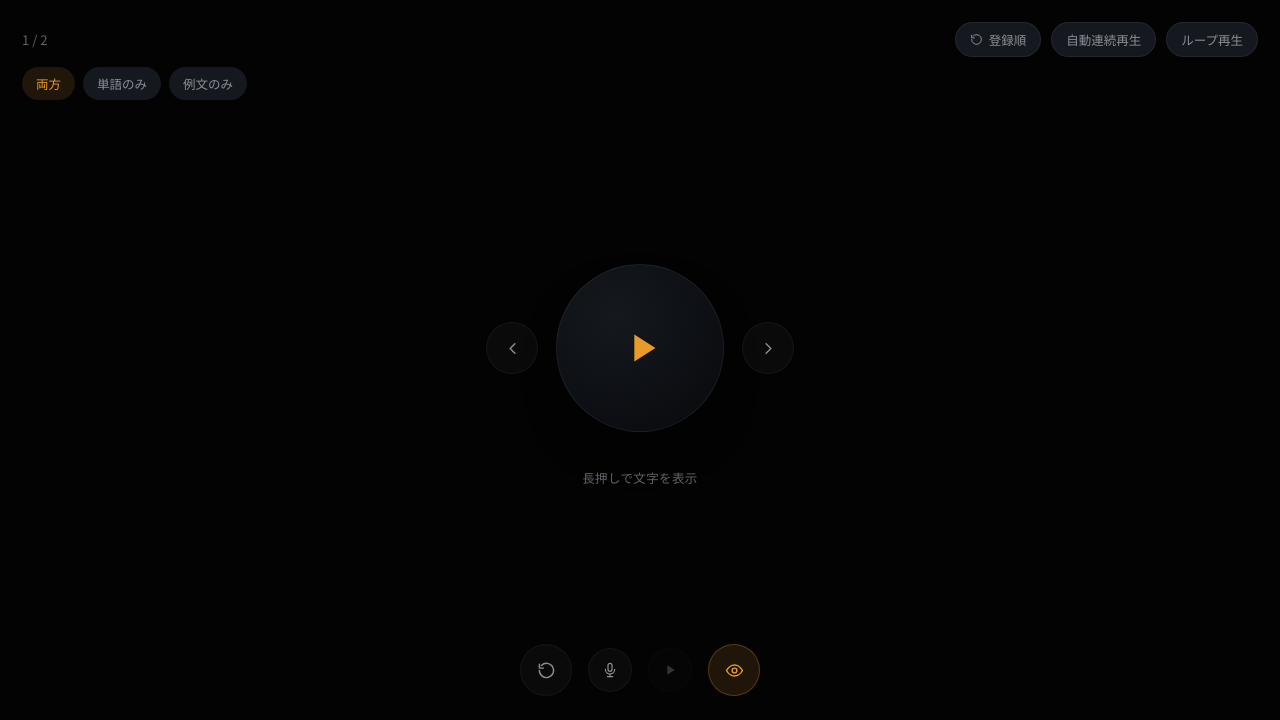
loop playback wraps from the last card back to the first
Expected: the text "1 / 2" is shown, x1=22 y1=30 x2=47 y2=49
Click the checkbox labelled "ループ再生" at (1212, 40), box x1=1166 y1=22 x2=1258 y2=57
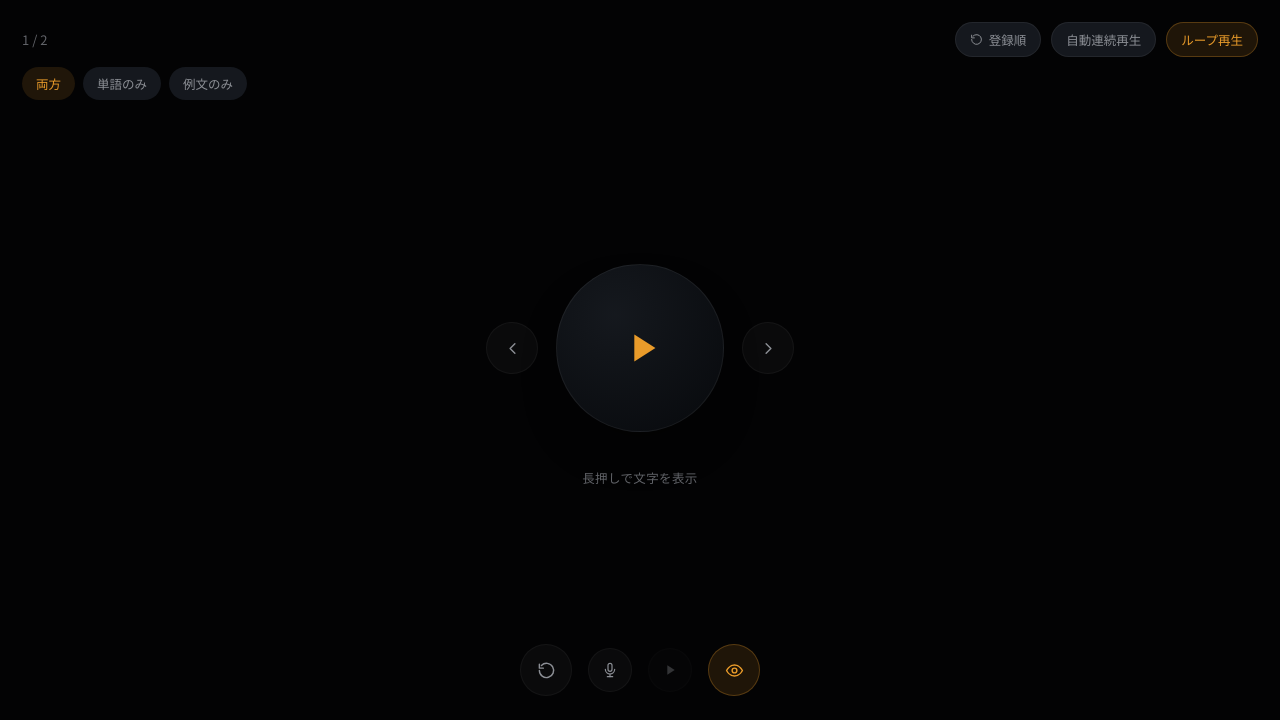
Click the button named "次" at (768, 348), box x1=742 y1=322 x2=794 y2=374
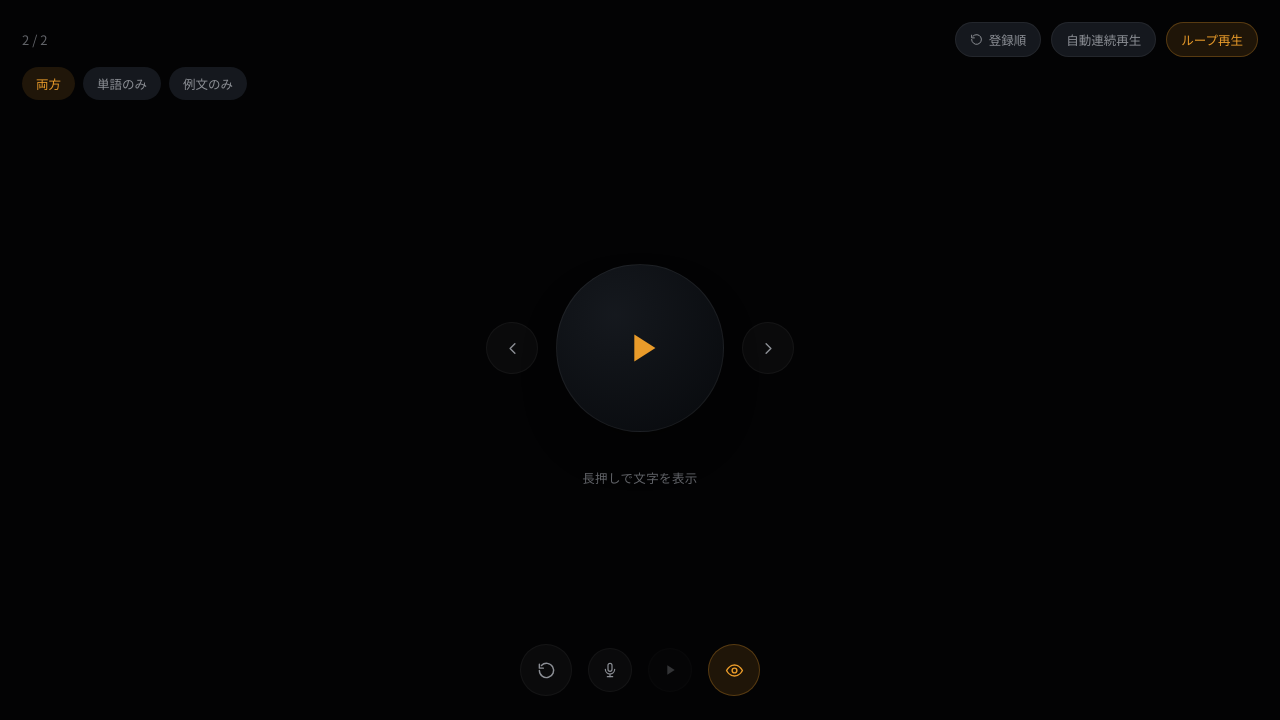
Now the text "2 / 2" is shown, box x1=22 y1=30 x2=47 y2=49
Click the button named "次" at (768, 348), box x1=742 y1=322 x2=794 y2=374
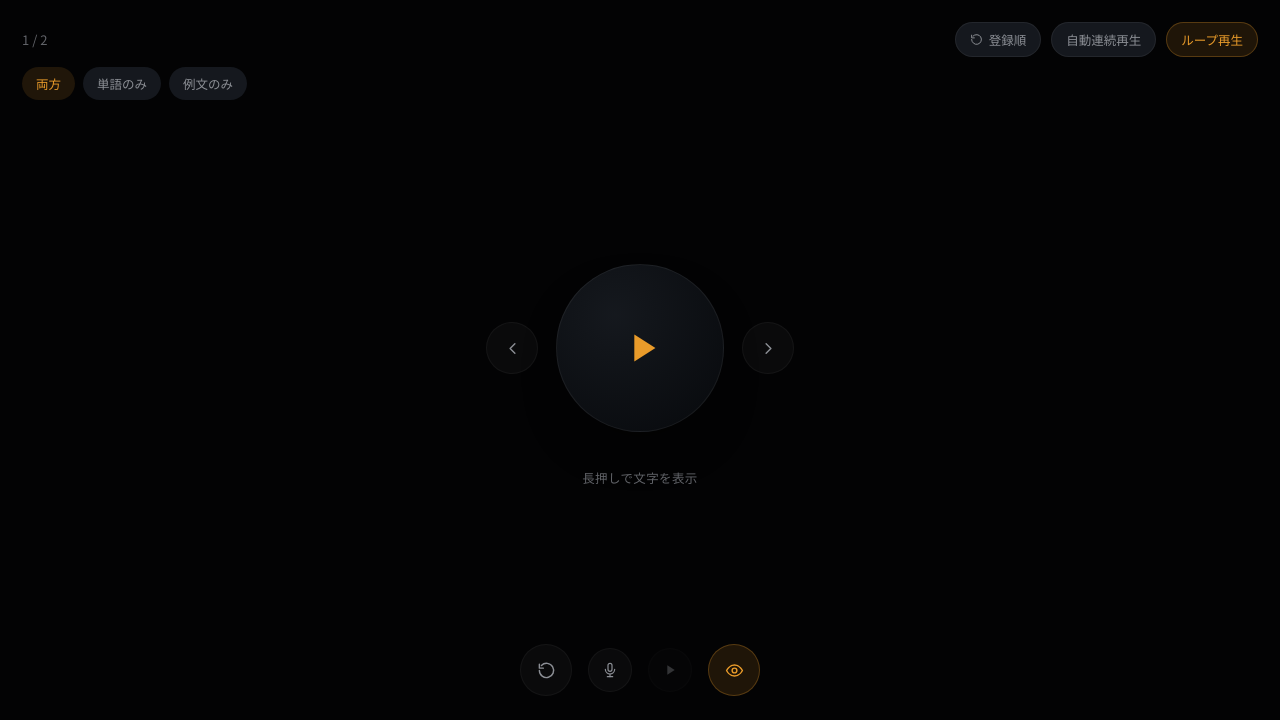
Now the text "1 / 2" is shown, box x1=22 y1=30 x2=47 y2=49
Click the button named "前" at (512, 348), box x1=486 y1=322 x2=538 y2=374
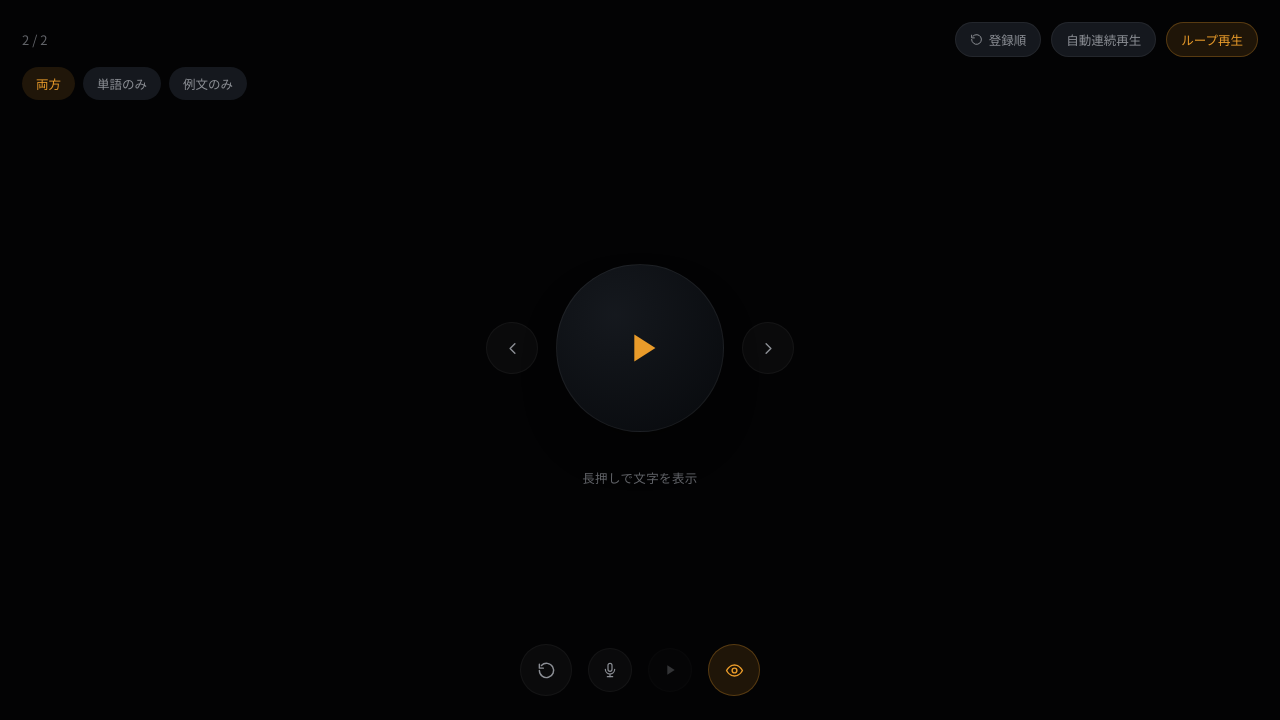
Now the text "2 / 2" is shown, box x1=22 y1=30 x2=47 y2=49
